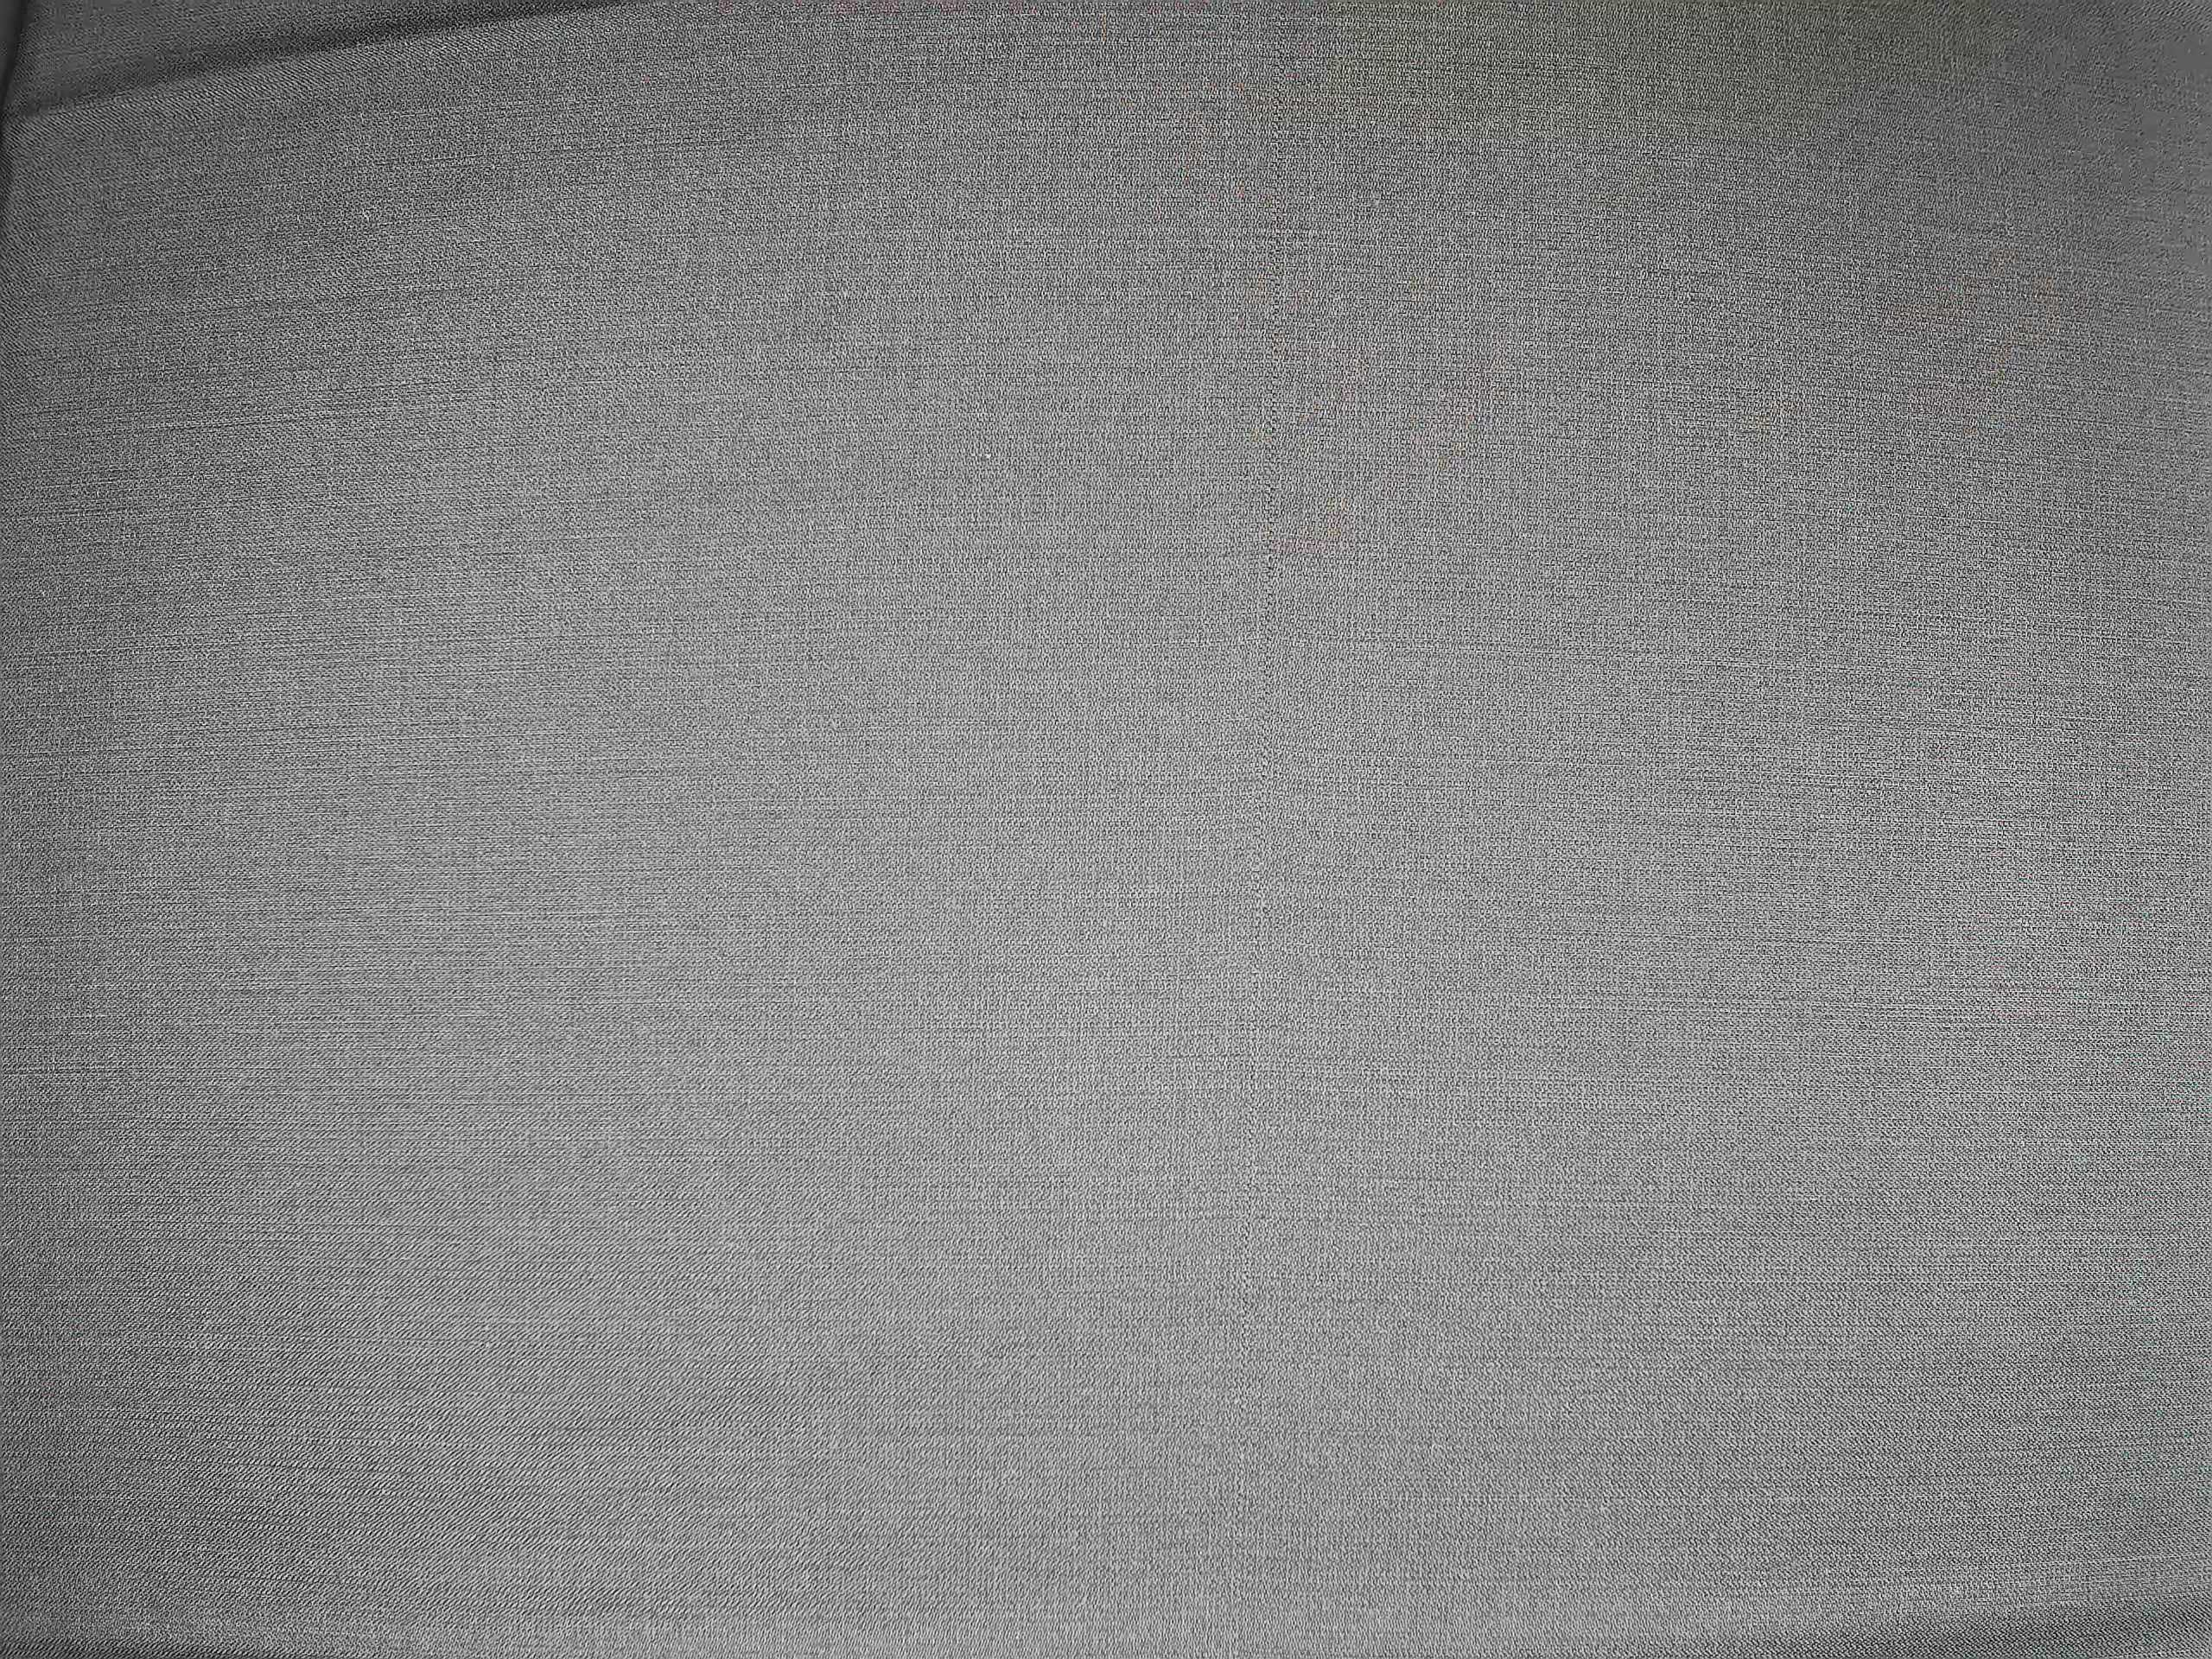hanging-warp: (1235, 7, 1294, 1412)
